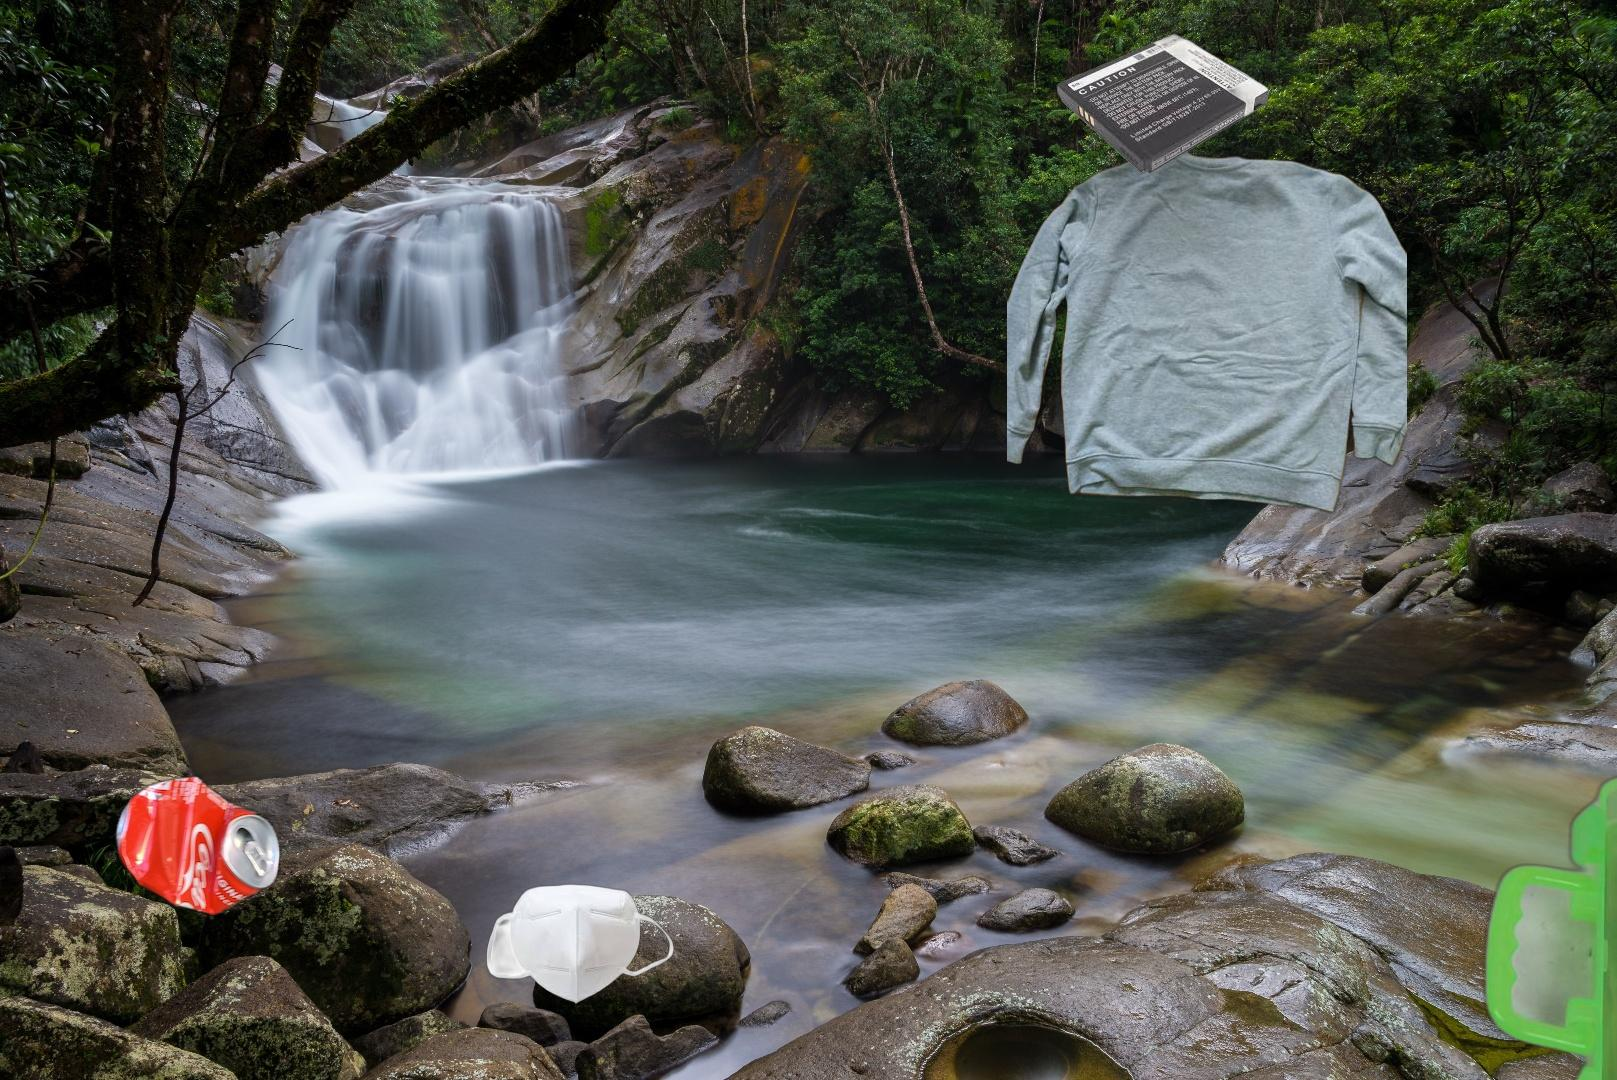battery: (1054, 31, 1272, 176)
clothes: (1007, 143, 1407, 517)
metal-cans: (14, 559, 527, 1080)
penholder: (1477, 773, 1617, 1080)
trash: (484, 881, 677, 1005)
